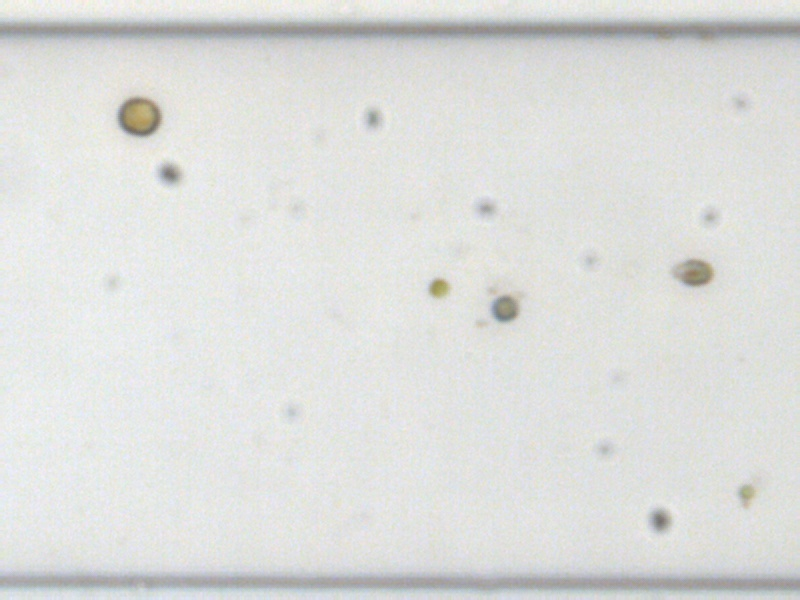Chlorella: (426, 277, 450, 298), (738, 483, 755, 500)
Dunaliella salina: (671, 257, 716, 287)
Effrenium: (113, 95, 162, 137)
Porphyridium: (490, 294, 518, 321)
